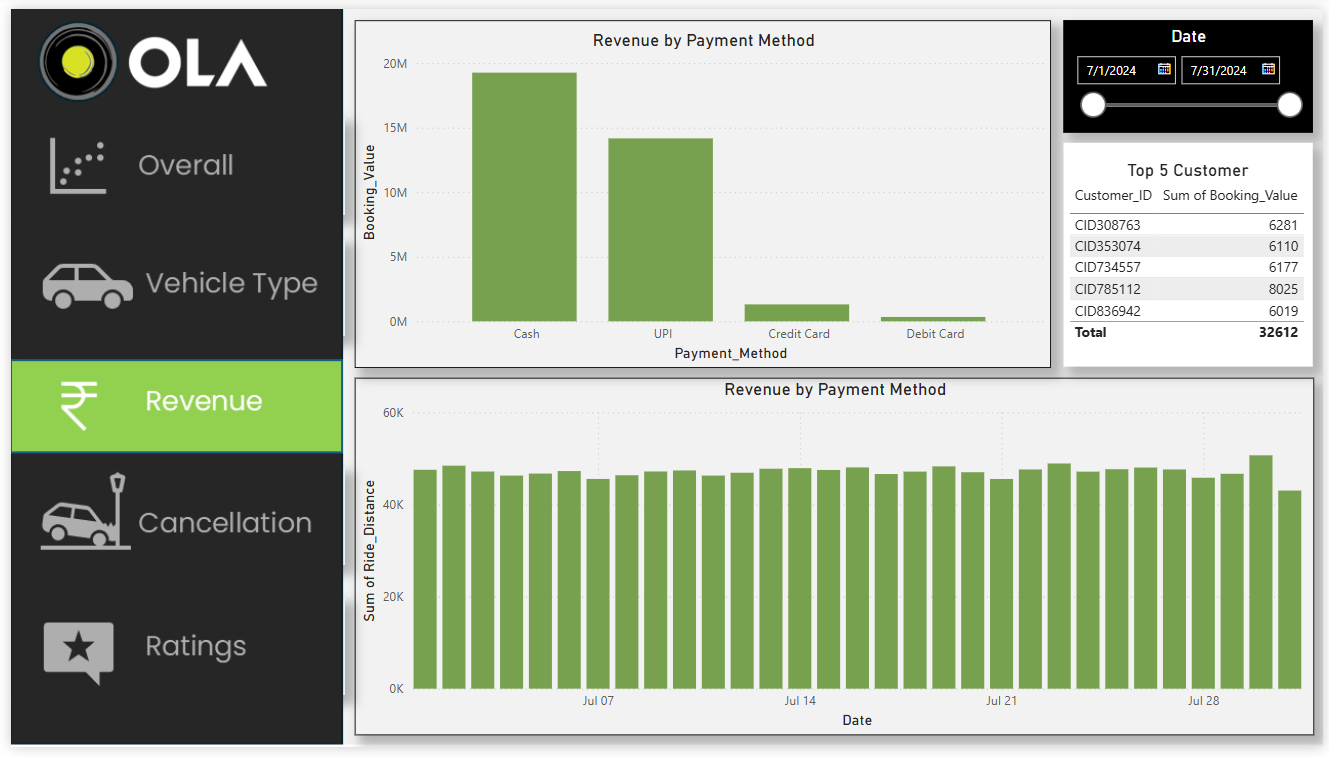

This screenshot's page, from the dashboard's own definition file:
{"tool":"powerbi","page":{"name":"Revenue","canvas":[1280,720],"ordinal":2},"visuals":[{"type":"actionButton","box":[0,223.8,325.4,94.3],"z":0},{"type":"actionButton","box":[0,447.7,325.4,94.3],"z":1000},{"type":"actionButton","box":[0,574.1,325.4,94.3],"z":2000},{"type":"actionButton","box":[0,105.7,325.4,94.3],"z":3000},{"type":"columnChart","title":"Revenue by Payment Method","fields":{"Y":["Sum(Ola_bookings.Booking_Value)"],"Category":["Ola_bookings.Payment_Method"]},"box":[334.8,11,679.2,338.9],"z":4000},{"type":"columnChart","title":"Revenue by Payment Method","fields":{"Y":["Sum(Ola_bookings.Ride_Distance)"],"Category":["Ola_bookings.Date"]},"box":[334.8,359.5,935.9,348.5],"z":5000},{"type":"slicer","title":"Date","fields":{"Values":["Ola_bookings.Date"]},"box":[1026.4,11,242.9,109.8],"z":6000},{"type":"tableEx","title":"Top 5 Customer","fields":{"Values":["Ola_bookings.Customer_ID","Sum(Ola_bookings.Booking_Value)"]},"box":[1026.4,130.4,242.9,218.2],"z":7000}]}

Visuals, with their boxes in screenshot pixels (x1, y1, x2, y2), scaled from the page's 1280x720 canvas onto the 1329x757 screenshot:
actionButton: (0,235,338,334)
actionButton: (0,471,338,570)
actionButton: (0,604,338,703)
actionButton: (0,111,338,210)
"Revenue by Payment Method" columnChart: (348,12,1053,368)
"Revenue by Payment Method" columnChart: (348,378,1319,744)
"Date" slicer: (1066,12,1318,127)
"Top 5 Customer" tableEx: (1066,137,1318,367)
